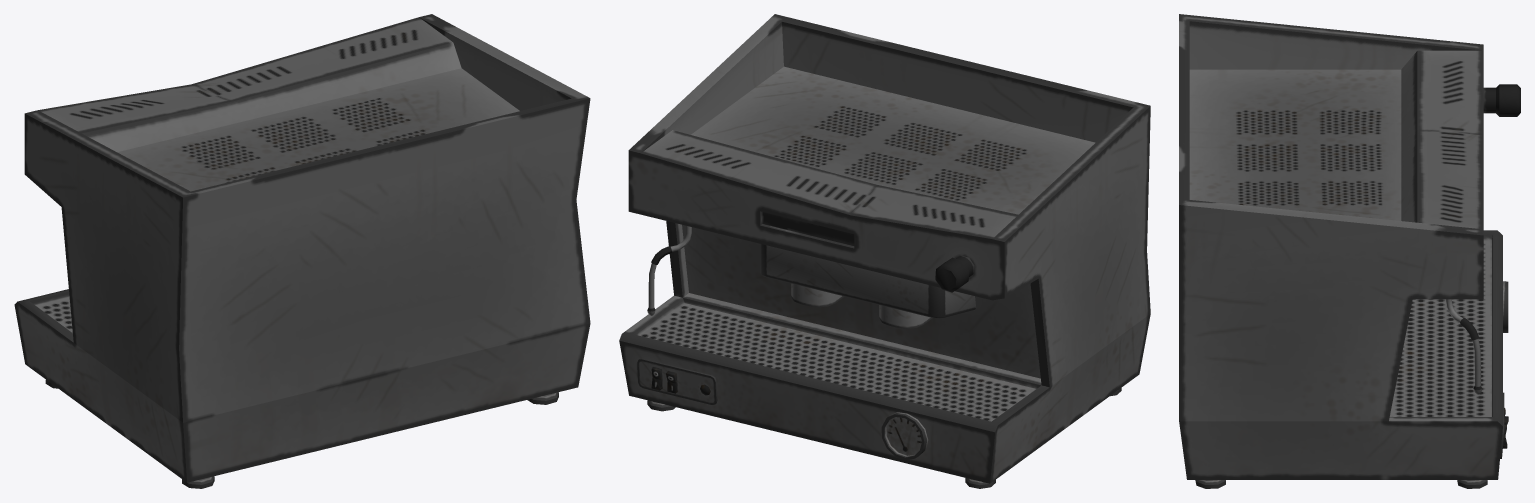
File: Old Coffee Machine.glb
3 renders of one model, left to right at view 1: azimuth 30°, elevation 25°; view 2: azimuth 150°, elevation 25°; view 3: azimuth 270°, elevation 25°, orthographic. The views are drawn at different scales.
Parts seen in each view (by area): view 1: OldCoffeeMachine; view 2: OldCoffeeMachine; view 3: OldCoffeeMachine.
Part boxes in pixels (left/top/right/bottom): OldCoffeeMachine: left=14, top=14, right=590, bottom=488; OldCoffeeMachine: left=619, top=14, right=1150, bottom=488; OldCoffeeMachine: left=1179, top=14, right=1520, bottom=488.
Bounding box in the file's own units: 0.7141 × 0.5095 × 0.5401.
Materials: 1 (1 with a texture image).
